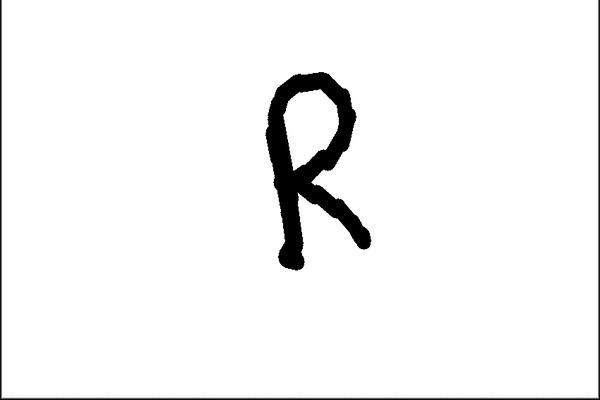R: (264, 60, 379, 268)
